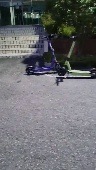beam: (26, 31, 65, 73)
gcooter: (57, 36, 96, 78)
